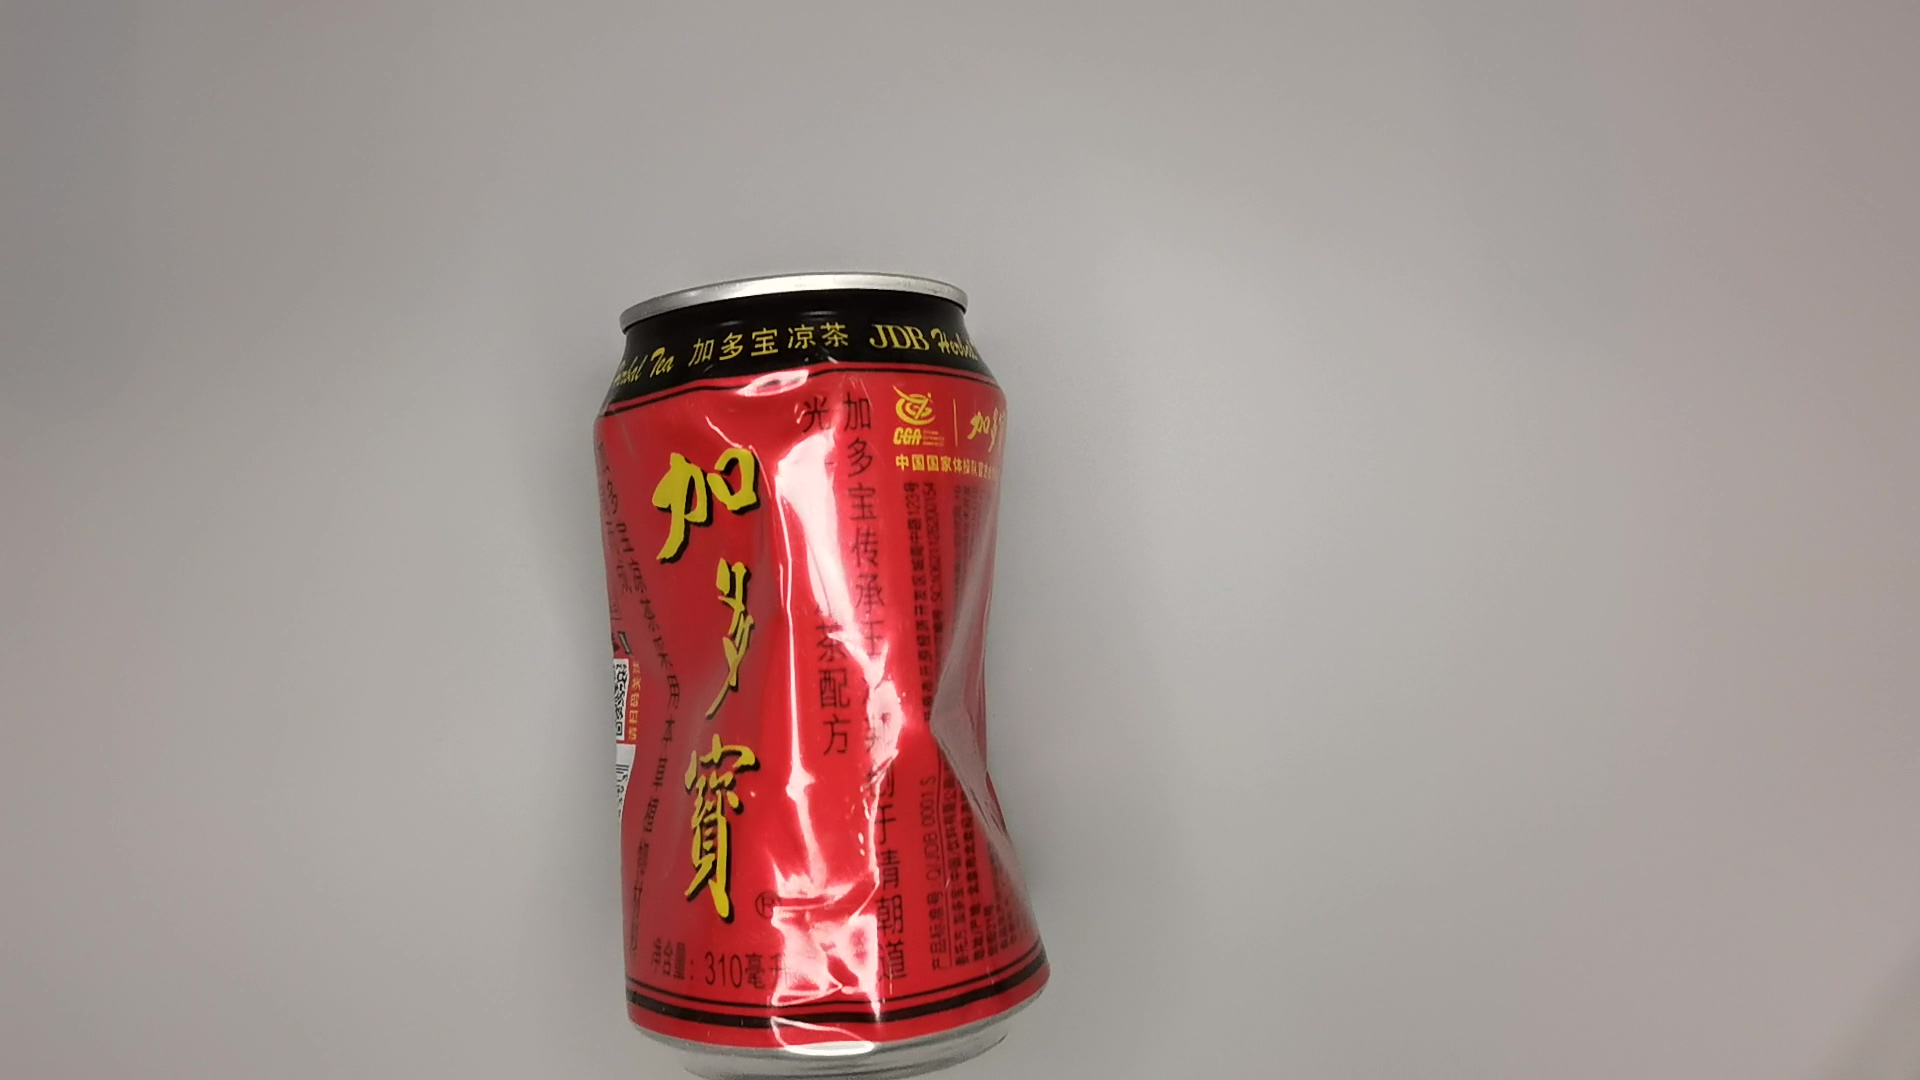can: (593, 262, 1083, 1080)
